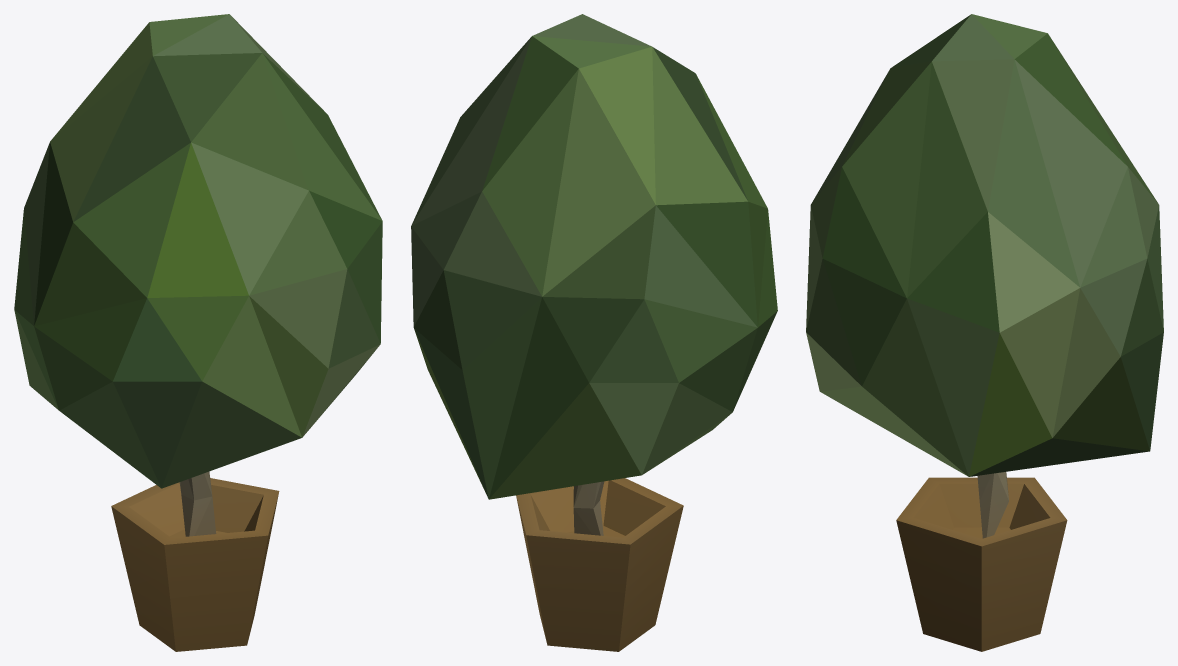
The model's file is Bush-Potted_A.fbx.
3 views of the same model, side by side, from view 1: azimuth 30°, elevation 25°; view 2: azimuth 150°, elevation 25°; view 3: azimuth 270°, elevation 25° (orthographic).
Visible parts, largest first — view 1: Bush-Potted_A; view 2: Bush-Potted_A; view 3: Bush-Potted_A.
Part boxes in pixels (<box>): Bush-Potted_A: <box>14,14,382,651</box>; Bush-Potted_A: <box>411,14,777,651</box>; Bush-Potted_A: <box>806,14,1163,651</box>.
Size of the model in its own units: 145 by 251 by 138.
